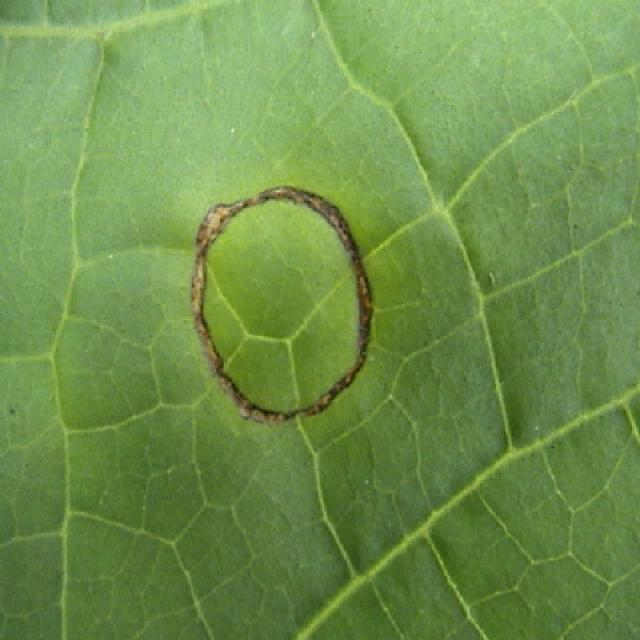Pumpkin Beetle: (181, 172, 387, 437)
